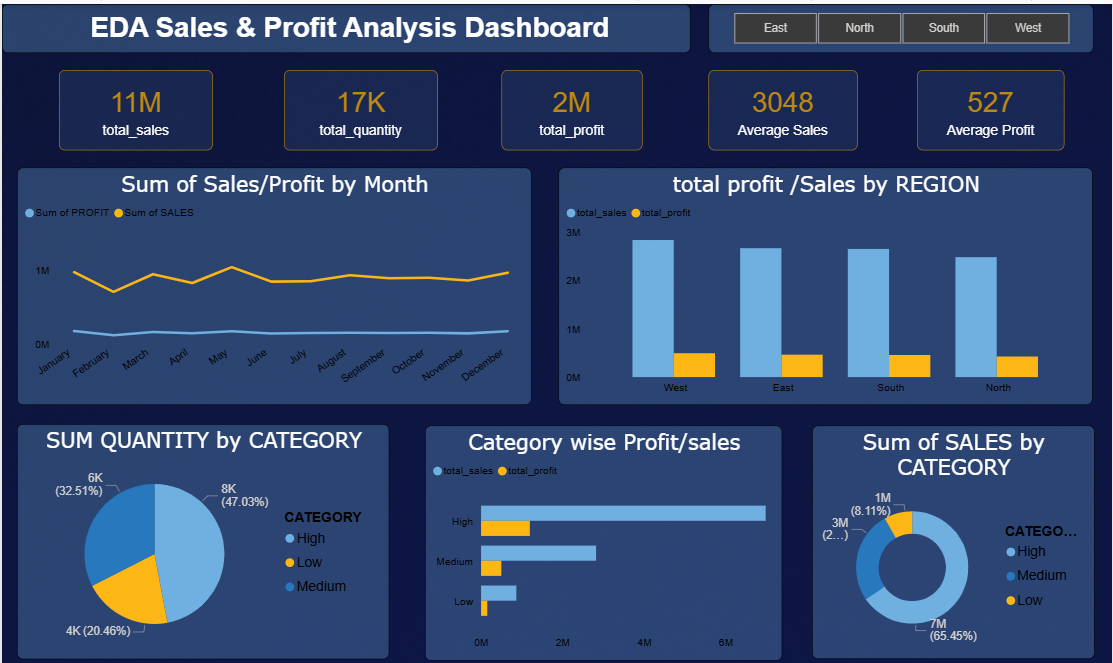

Layout of this report page (visuals, bound fields, positions):
{"tool":"powerbi","page":{"name":"Page 1","canvas":[1280,783],"ordinal":0},"visuals":[{"type":"clusteredBarChart","title":"Category wise Profit/sales","fields":{"Category":["output_processed.CATEGORY"],"Y":["output_processed.total_sales","output_processed.total_profit"]},"box":[487.8,486,412.1,271.2],"z":0},{"type":"lineChart","title":"Sum of Sales/Profit by Month","fields":{"Category":["output_processed.ORDER_DATE.Variation.Date Hierarchy.Month"],"Y":["Sum(output_processed.PROFIT)","Sum(output_processed.SALES)"]},"box":[17,189,593.4,274],"z":1000},{"type":"clusteredColumnChart","title":"total profit /Sales by REGION","fields":{"Y":["output_processed.total_sales","output_processed.total_profit"],"Category":["output_processed.REGION"]},"box":[642.5,189,616.1,274],"z":2000},{"type":"pieChart","title":"SUM QUANTITY by CATEGORY","fields":{"Y":["Sum(output_processed.QUANTITY)"],"Series":["output_processed.CATEGORY"]},"box":[17.6,484.3,429.7,271.2],"z":3000},{"type":"donutChart","fields":{"Y":["Sum(output_processed.SALES)"],"Category":["output_processed.CATEGORY"]},"box":[933.3,486,325.8,269.4],"z":4000},{"type":"card","fields":{"Values":["output_processed.total_sales"]},"box":[66.1,75.6,177.6,92.6],"z":5000},{"type":"card","fields":{"Values":["output_processed.total_quantity"]},"box":[325,75.6,177.6,92.6],"z":6000},{"type":"card","fields":{"Values":["output_processed.total_profit"]},"box":[576.4,75.6,162.5,92.6],"z":7000},{"type":"card","fields":{"Values":["output_processed.Average Sales"]},"box":[814.5,75.6,172,92.6],"z":8000},{"type":"card","fields":{"Values":["output_processed.Average Profit"]},"box":[1054.5,75.6,170.1,92.6],"z":9000},{"type":"slicer","fields":{"Values":["output_processed.REGION"]},"box":[815.3,0,443.7,56.3],"z":10000},{"type":"textbox","box":[0,0,794.2,56.3],"z":11000}]}

Visuals, with their boxes in screenshot pixels (x1, y1, x2, y2), scaled from the page's 1280x783 canvas onto the 1113x663 screenshot:
"Category wise Profit/sales" clusteredBarChart: detection(424, 412, 782, 641)
"Sum of Sales/Profit by Month" lineChart: detection(15, 160, 531, 392)
"total profit /Sales by REGION" clusteredColumnChart: detection(559, 160, 1094, 392)
"SUM QUANTITY by CATEGORY" pieChart: detection(15, 410, 389, 640)
donutChart - Sum(output_processed.SALES) x output_processed.CATEGORY: detection(812, 412, 1095, 640)
card - output_processed.total_sales: detection(57, 64, 212, 142)
card - output_processed.total_quantity: detection(283, 64, 437, 142)
card - output_processed.total_profit: detection(501, 64, 642, 142)
card - output_processed.Average Sales: detection(708, 64, 858, 142)
card - output_processed.Average Profit: detection(917, 64, 1065, 142)
slicer - output_processed.REGION: detection(709, 0, 1095, 48)
textbox: detection(0, 0, 691, 48)
